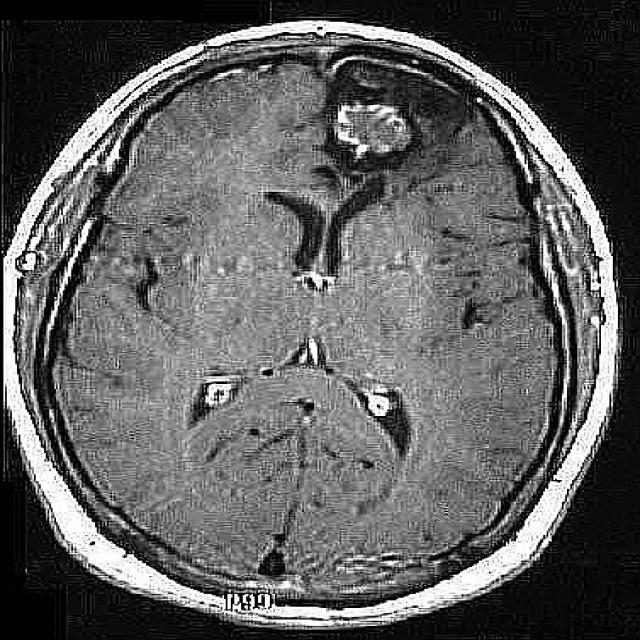Tumor-Cell: (312, 94, 456, 163)
